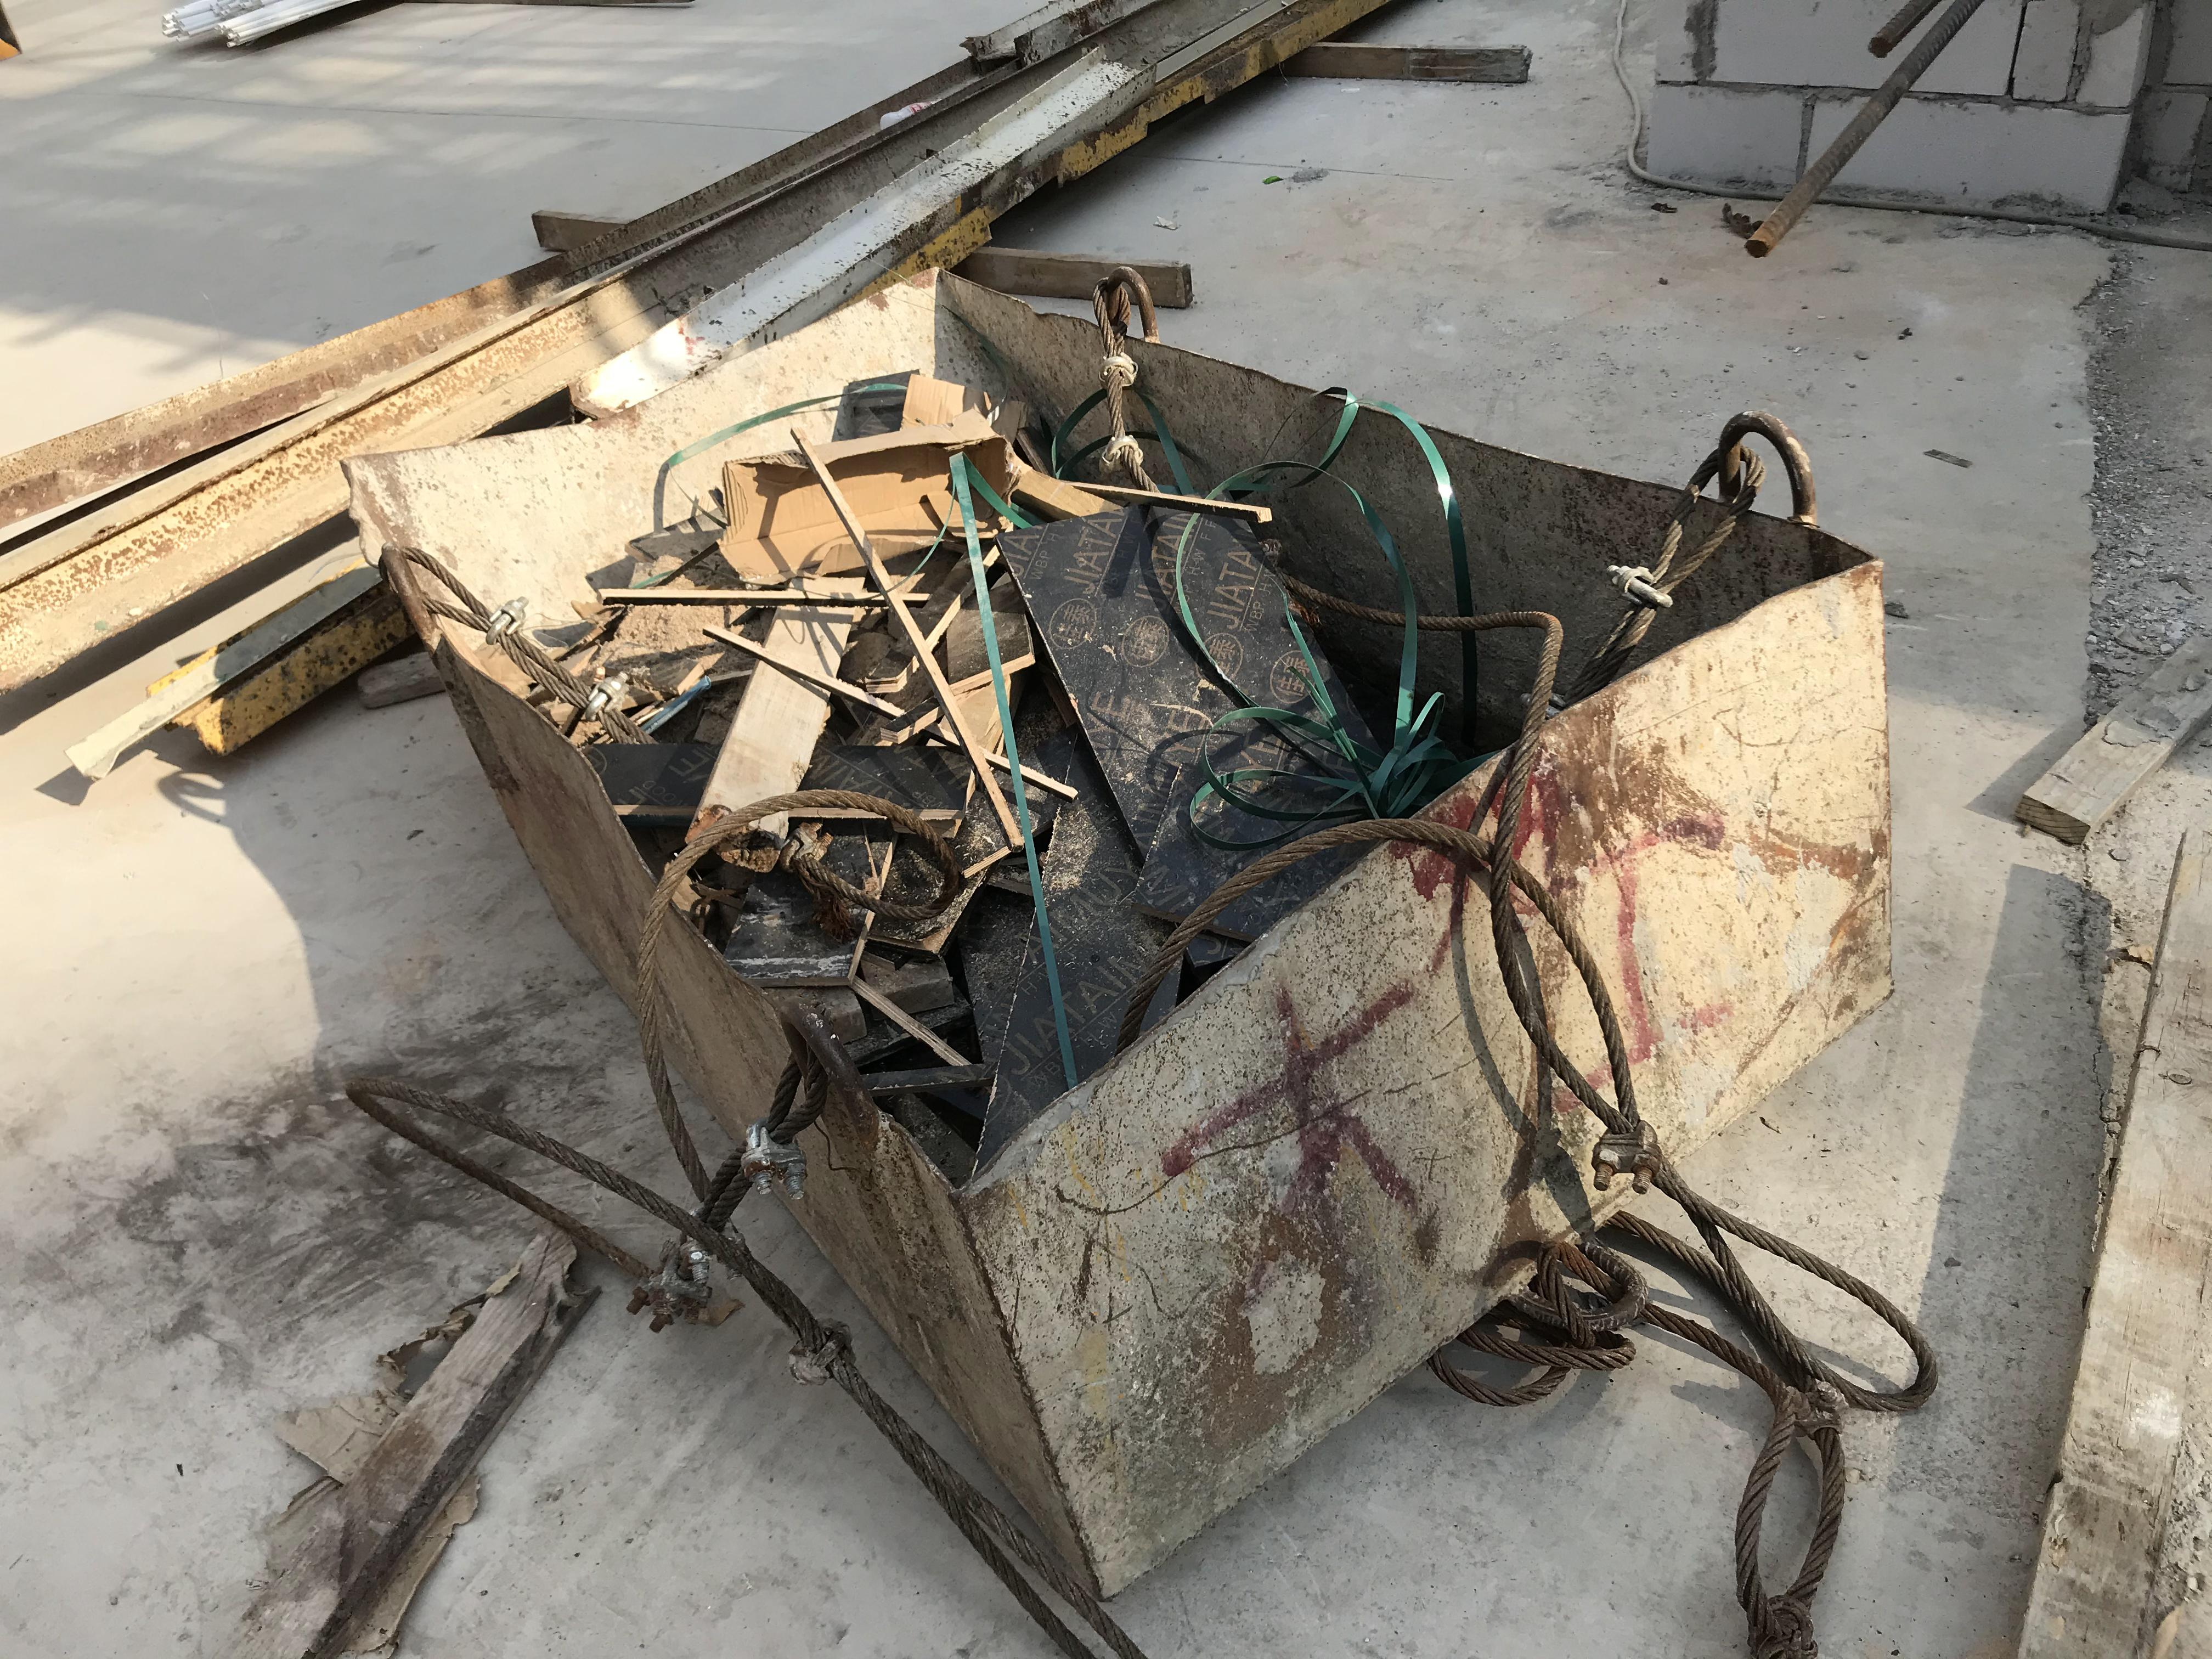hopper: (308, 270, 1916, 1621)
